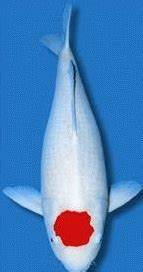sun: (3, 3, 143, 272)
